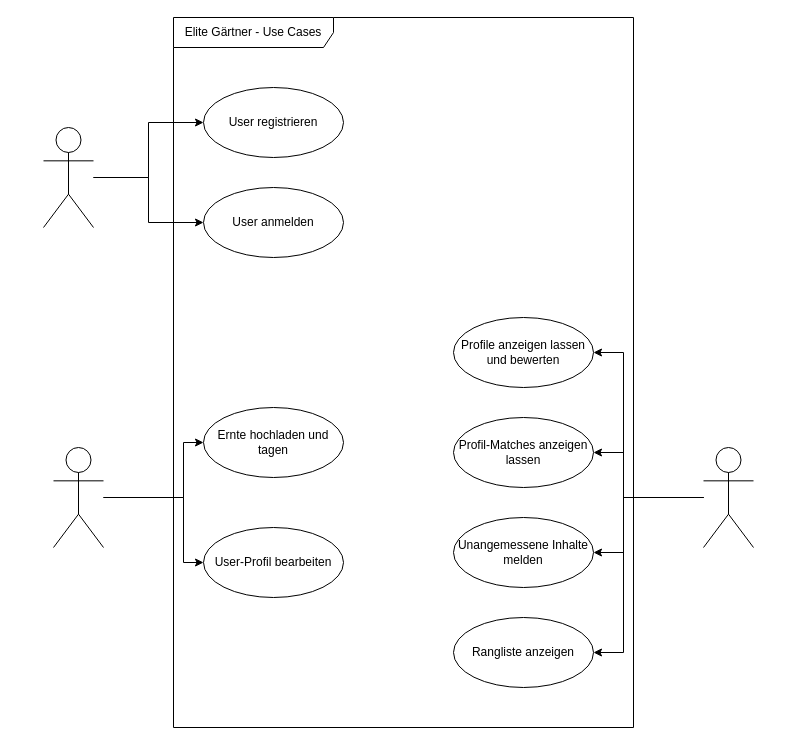
The diagram is 810 pixels wide and 745 high, and some of its shapes have lost their labels. Each missing label, with the box of its shape:
User: (42, 126, 94, 228)
User (Content Creator): (52, 446, 104, 548)
User (Content Receiver): (702, 446, 754, 548)
